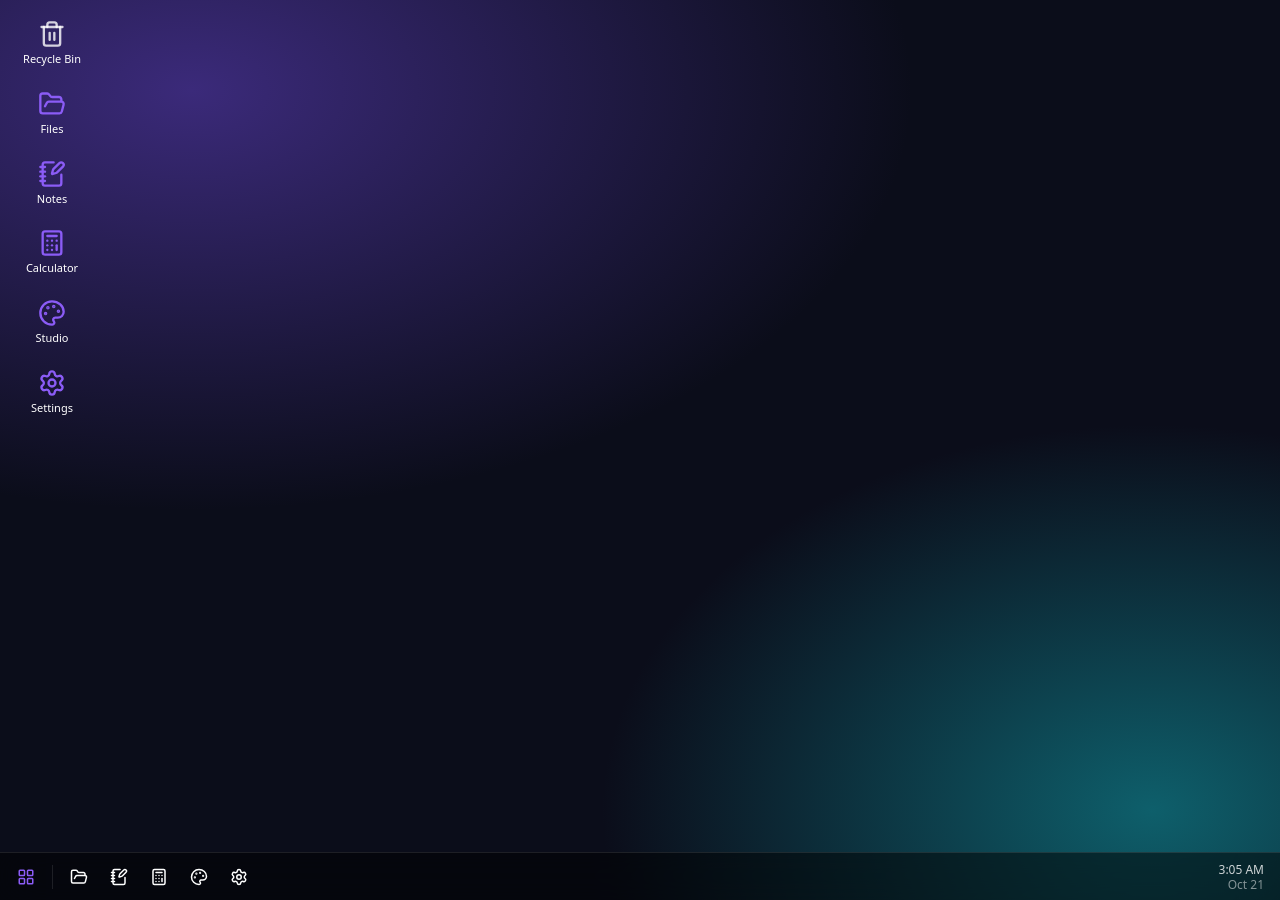
Desktop shell › launches an app from the Start menu and shows it on the taskbar
The width and height of the screenshot is (1280, 900).
Click the button named "Start" at (26, 876), box [8,858,44,894]
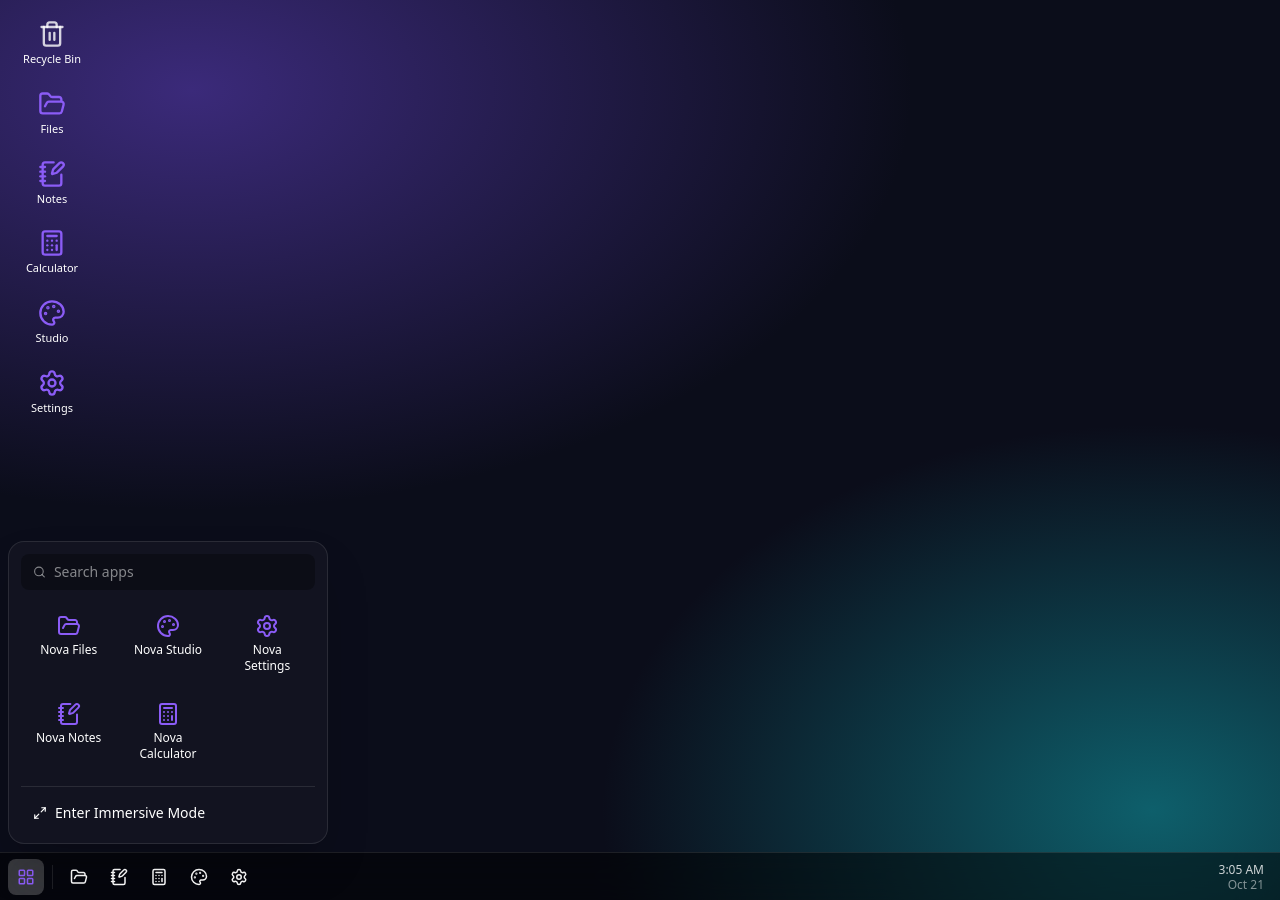
Click the menu item "Nova Calculator" at (168, 732), box [120,690,216,774]
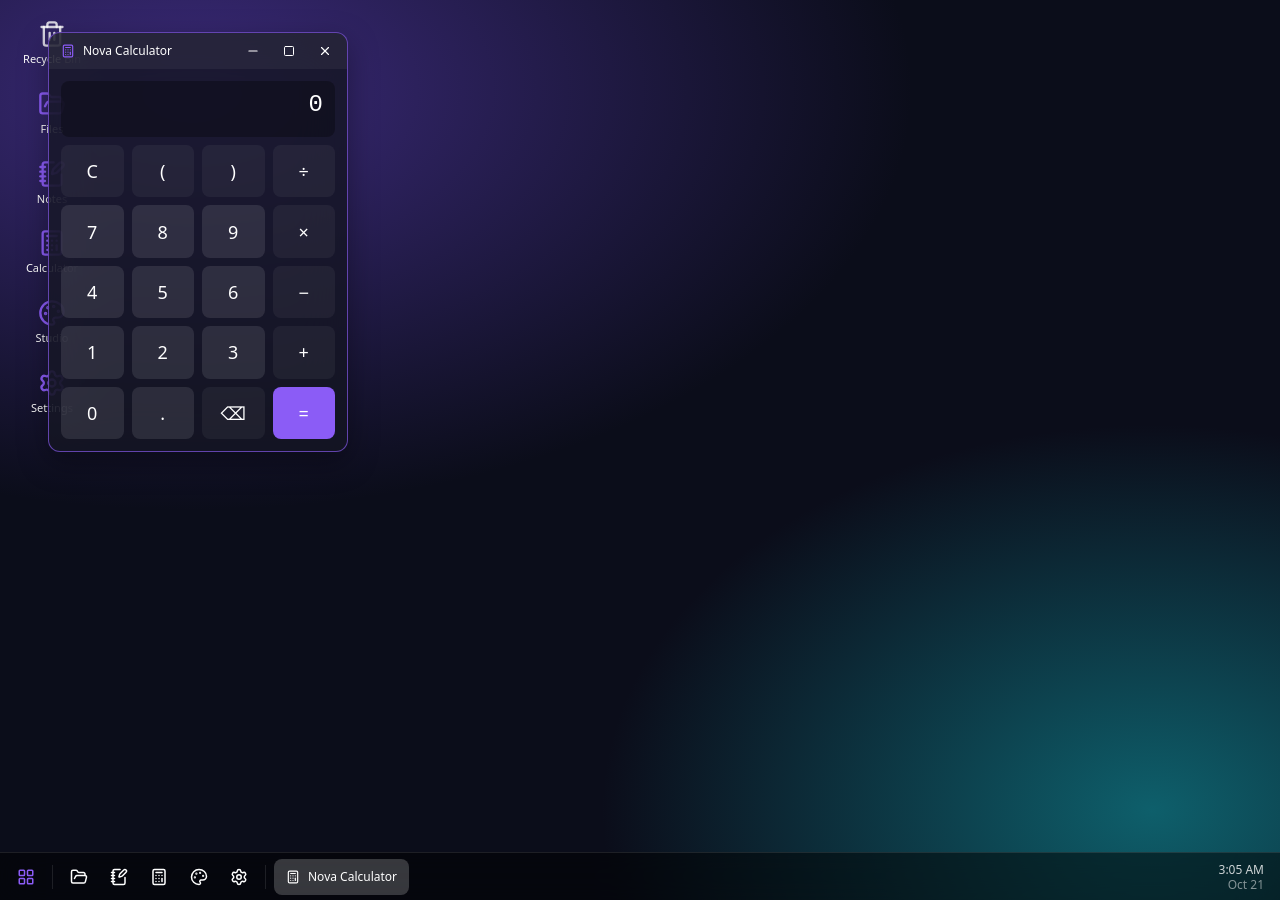
Result: the dialog with test id "window-calculator" is shown at [48,32,348,452]
Result: the button with test id "task-calculator" is shown at [274,858,409,894]
